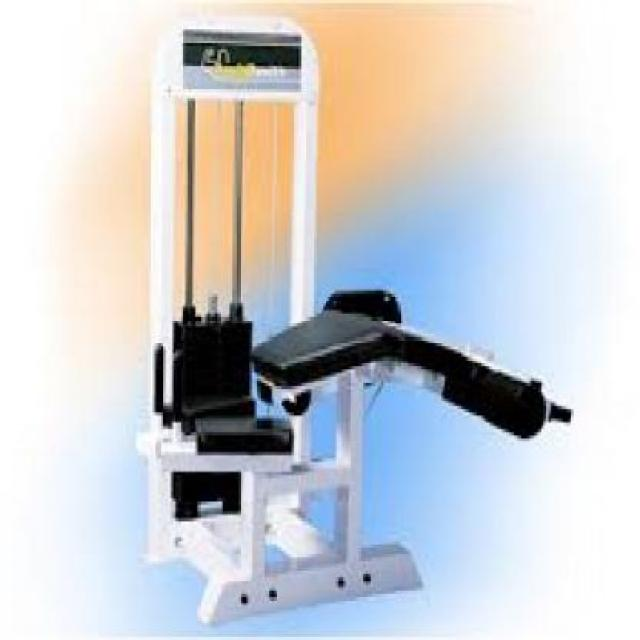reg curl machine: (129, 11, 580, 629)
